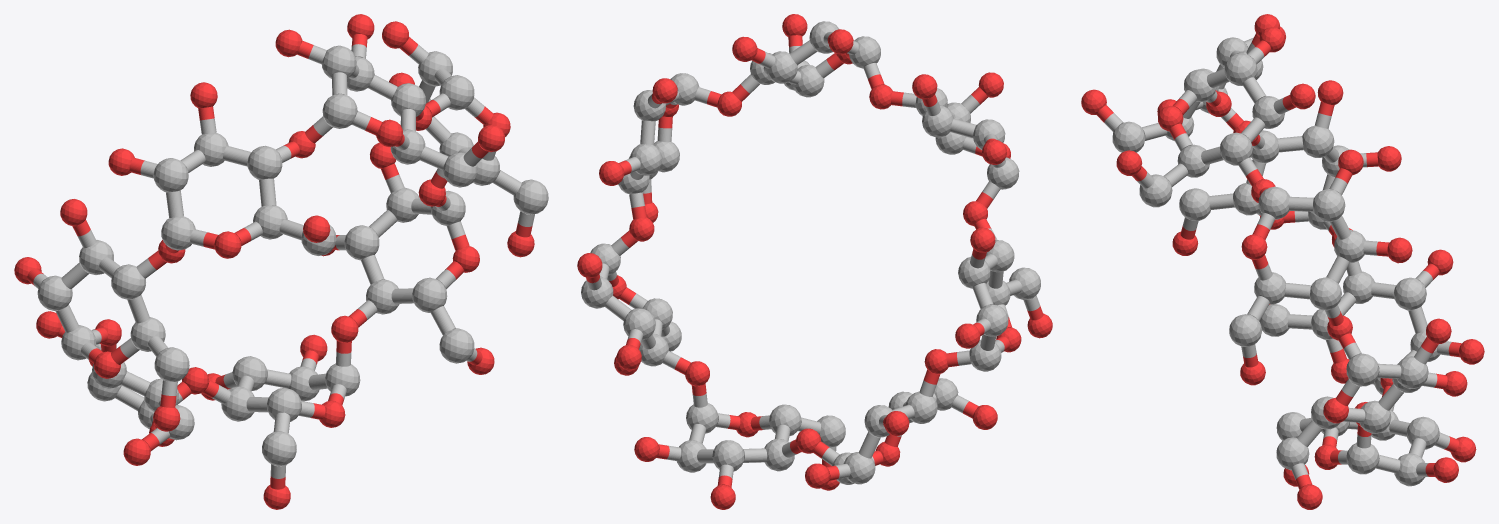
The model's file is cyclodextrin.fbx.
3 renders of one model, left to right at view 1: azimuth 30°, elevation 25°; view 2: azimuth 150°, elevation 25°; view 3: azimuth 270°, elevation 25°, orthographic. The views are drawn at different scales.
Visible parts, largest first — view 1: node_id8 (×3); view 2: node_id8 (×3); view 3: node_id8 (×4).
Part boxes in pixels (<box>): node_id8 (×3): <box>14,14,548,509</box>; node_id8 (×3): <box>577,14,1052,509</box>; node_id8 (×4): <box>1081,14,1484,509</box>.
Bounding box in the file's own units: 0.5027 × 0.512 × 0.4094.
